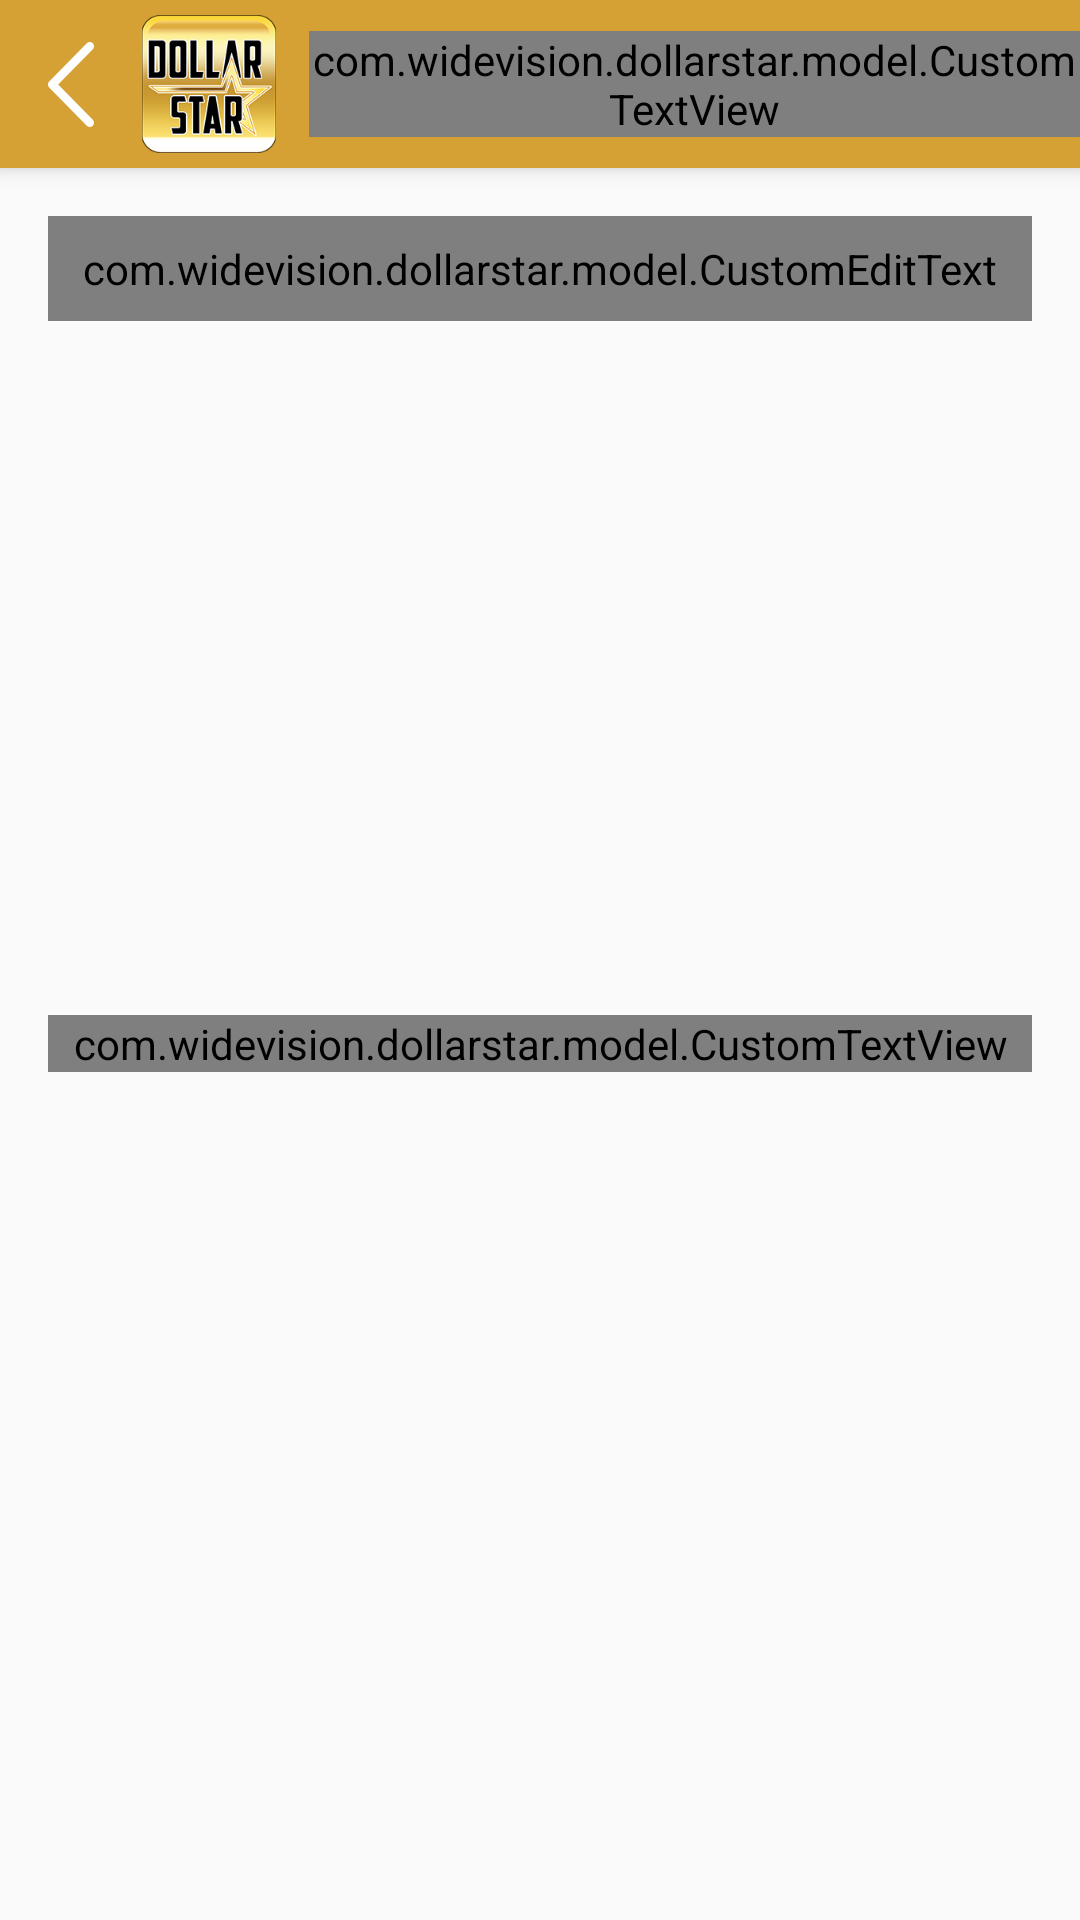

Locate icon controls on the screen. Image size 1080x1920, boxes as [x1, y1, x2, y2].
backicon: [48, 42, 94, 127]
